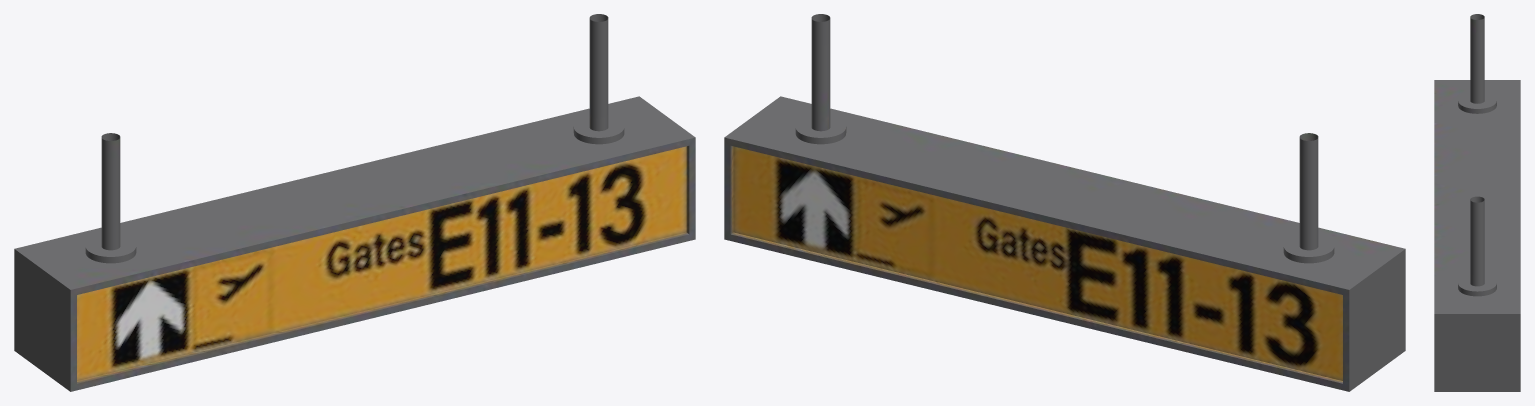
File: sign-gate.glb
3 views of the same model, side by side, from view 1: azimuth 30°, elevation 25°; view 2: azimuth 150°, elevation 25°; view 3: azimuth 270°, elevation 25° (orthographic). The views are drawn at different scales.
Visible parts, largest first — view 1: Cube; view 2: Cube; view 3: Cube.
Boxes of the visible parts, x1=… form: Cube: x1=14, y1=14, x2=695, y2=391; Cube: x1=724, y1=14, x2=1405, y2=391; Cube: x1=1434, y1=14, x2=1520, y2=391.
Bounding box in the file's own units: 2.4 × 0.7984 × 0.3741.
1 material, 1 textured.
